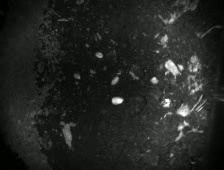corn: (109, 95, 125, 106), (108, 74, 121, 86), (70, 70, 82, 81), (93, 49, 104, 59)
